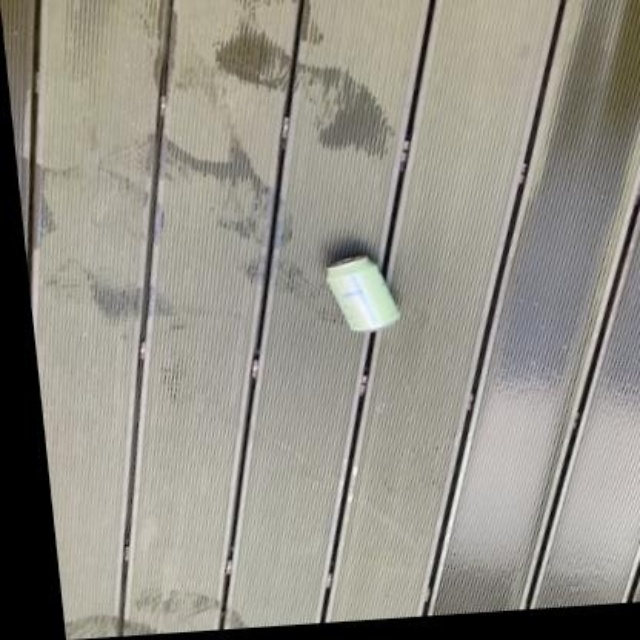trash: (326, 255, 398, 331)
